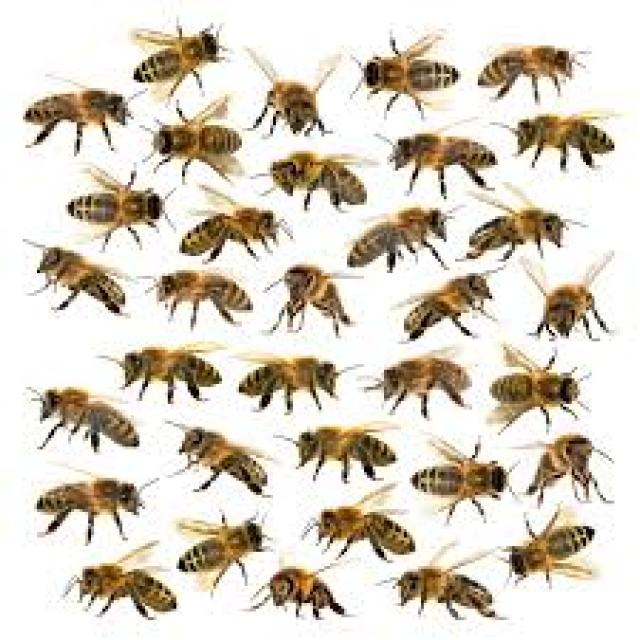Bees: (29, 460, 164, 540), (348, 26, 461, 119), (465, 182, 590, 264), (487, 342, 592, 438), (64, 164, 180, 250), (390, 538, 506, 624), (63, 540, 183, 623), (518, 252, 623, 344), (18, 239, 137, 320), (407, 437, 523, 518), (179, 184, 293, 266), (136, 98, 244, 184), (24, 381, 143, 459), (241, 47, 344, 137), (232, 348, 364, 417), (23, 71, 132, 153), (306, 484, 416, 564), (168, 419, 272, 503), (98, 340, 229, 406), (254, 146, 375, 217), (130, 19, 237, 99), (276, 418, 401, 486), (262, 262, 365, 344), (246, 552, 358, 627), (492, 109, 621, 174), (376, 128, 498, 196), (509, 432, 618, 508), (391, 268, 498, 342), (507, 505, 599, 591), (350, 202, 460, 273), (373, 346, 478, 419), (172, 513, 274, 588), (476, 38, 591, 104), (140, 266, 253, 333)
